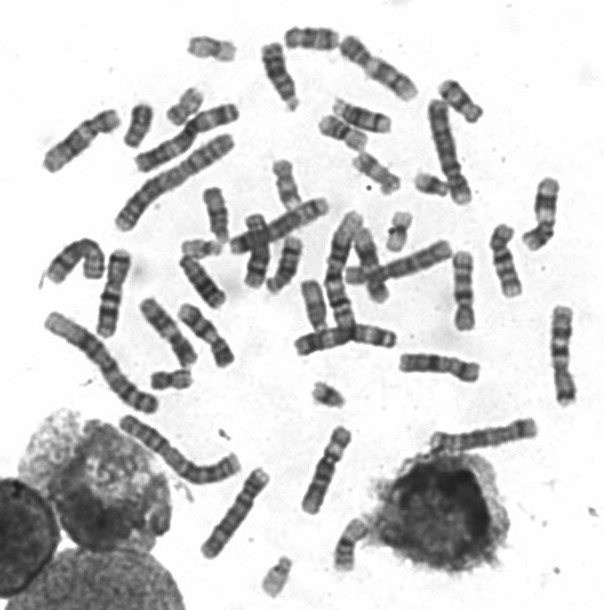chromosomes: (112, 129, 245, 240), (36, 304, 162, 419), (113, 413, 246, 488), (130, 101, 248, 177), (195, 462, 278, 568), (229, 194, 335, 259), (342, 235, 459, 291), (335, 30, 421, 106), (41, 106, 129, 179), (421, 93, 473, 214), (132, 289, 204, 374), (297, 424, 360, 519), (424, 413, 544, 459), (324, 209, 370, 329), (175, 298, 237, 375), (544, 302, 588, 410), (291, 321, 402, 362), (94, 243, 138, 345), (39, 234, 110, 293), (256, 38, 306, 120), (394, 345, 485, 388), (430, 68, 491, 129), (260, 233, 313, 302), (352, 221, 393, 309), (521, 176, 566, 253), (487, 218, 526, 304), (328, 512, 377, 578), (328, 91, 395, 138), (348, 147, 408, 199), (174, 253, 228, 309), (239, 208, 274, 290), (264, 154, 307, 218), (183, 28, 245, 71), (293, 272, 333, 338), (449, 248, 479, 336), (314, 113, 375, 153), (164, 81, 213, 130), (279, 22, 346, 56), (256, 554, 301, 602), (119, 98, 158, 153), (380, 204, 418, 256), (201, 180, 233, 239), (308, 373, 351, 415), (144, 364, 199, 396), (409, 168, 454, 203), (178, 233, 225, 260)
